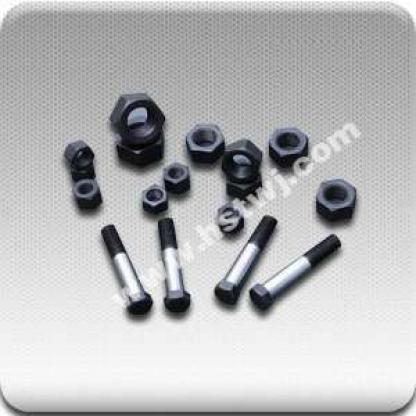FOD: (105, 90, 167, 144), (312, 176, 358, 223), (182, 120, 227, 163), (221, 138, 266, 180), (268, 124, 310, 166), (62, 137, 96, 171), (72, 176, 103, 211), (162, 161, 192, 190), (140, 182, 168, 213)
